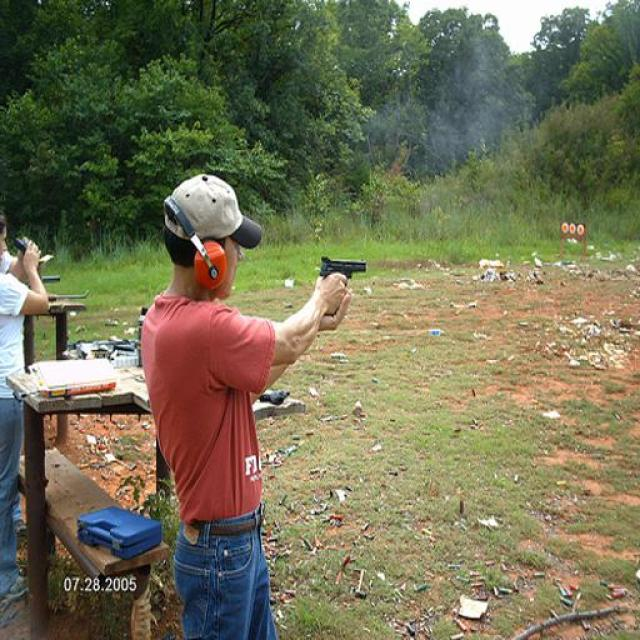pistol: (317, 254, 366, 315)
